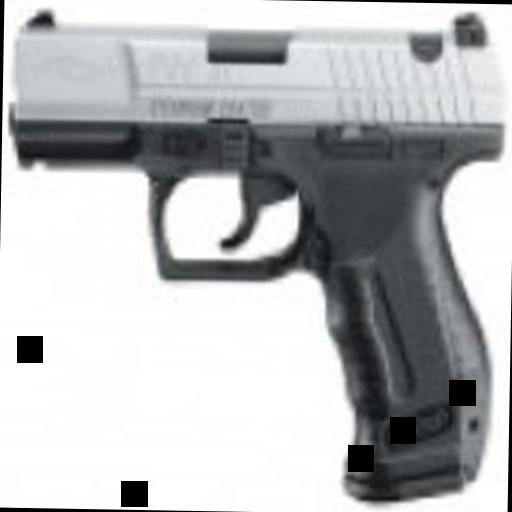Handgun: (0, 0, 492, 506)
